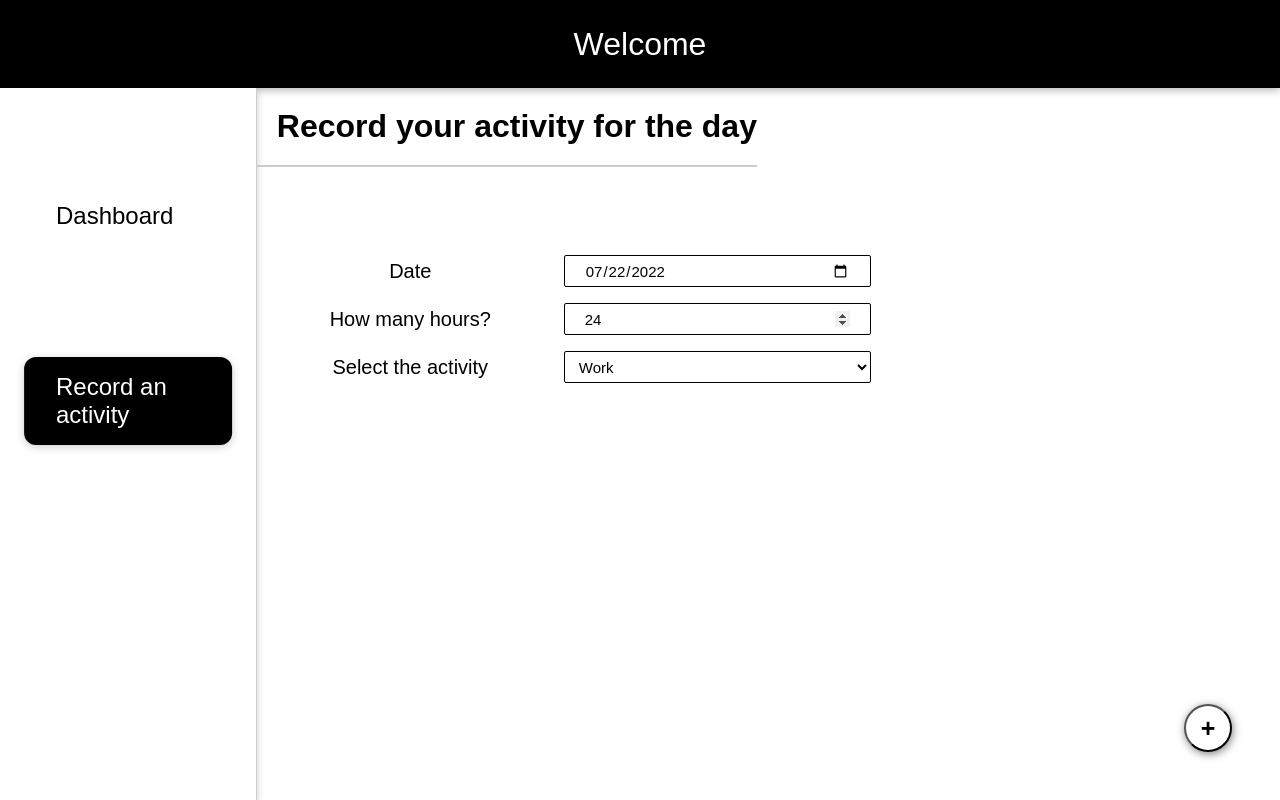
it: The Home Page › send data and test if fields automatically returns to empty state
Click the button "+" at (1208, 728), box [1184,704,1232,752]
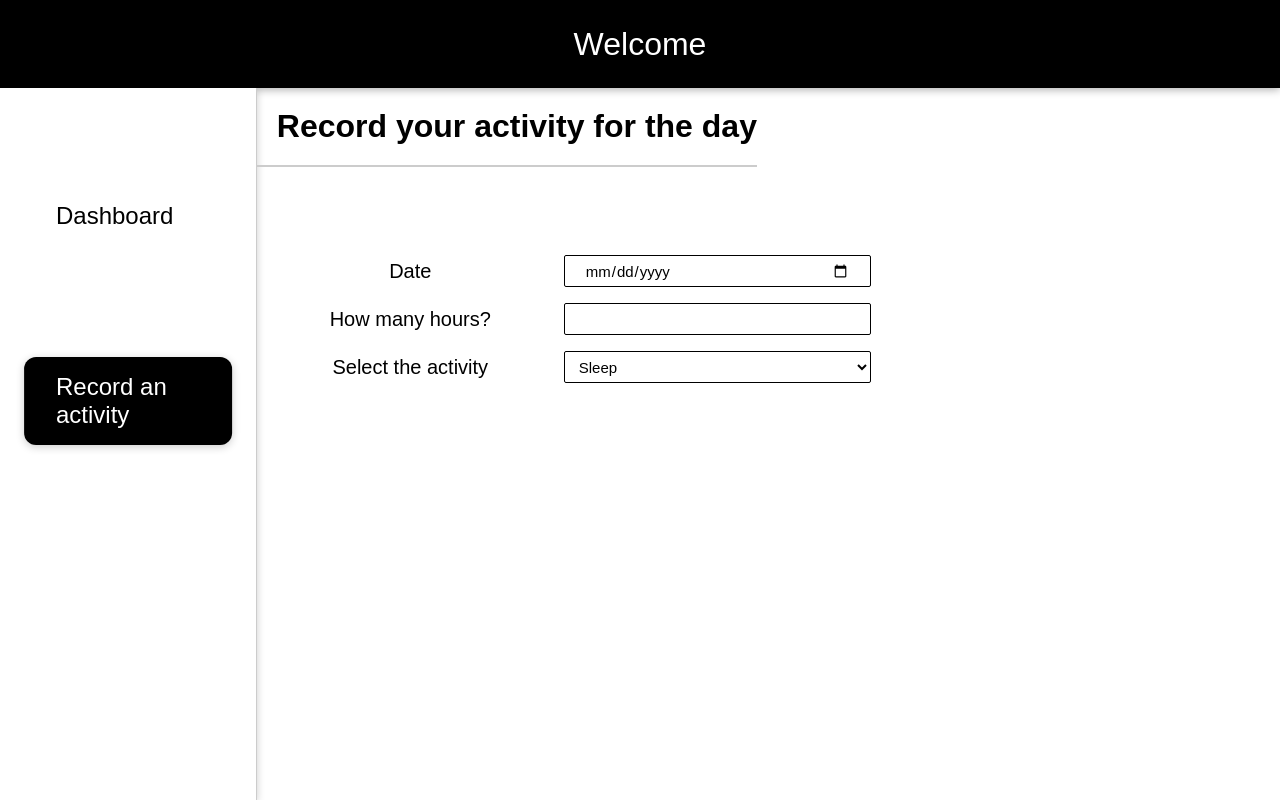
Expected: the dropdown with id "activityId" shows "Sleep", [564,351,871,383]
Expected: the button "+" is gone
